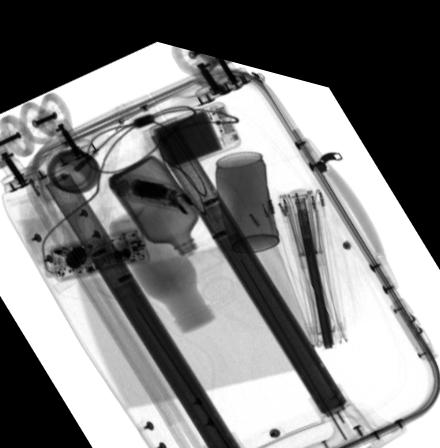Powerbank: (148, 88, 242, 162)
